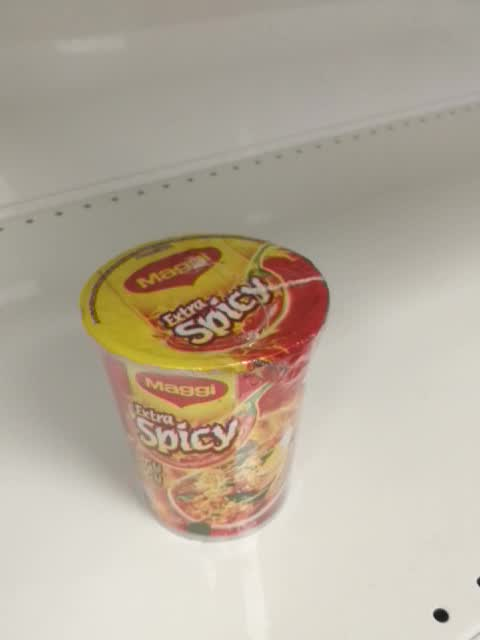maggi: (78, 233, 330, 544)
